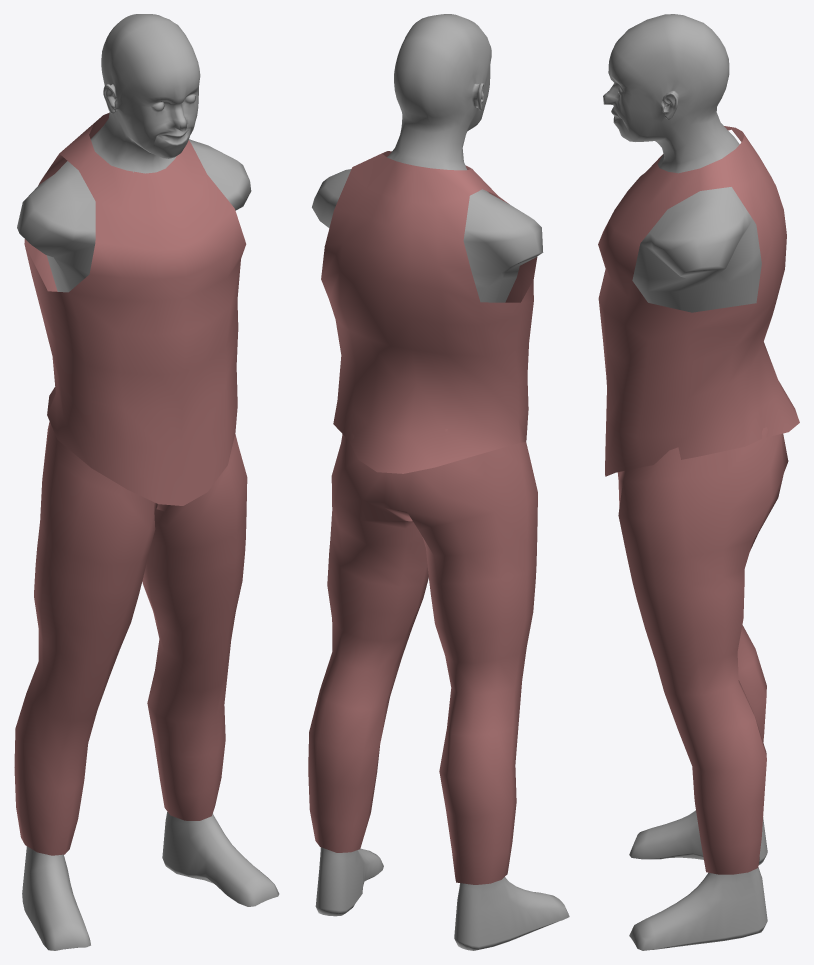
Rendered from MaleModel.fbx.
3 renders of one model, left to right at view 1: azimuth 30°, elevation 25°; view 2: azimuth 150°, elevation 25°; view 3: azimuth 270°, elevation 25°, orthographic.
Parts seen in each view (by area): view 1: Pant, Vest, Body; view 2: Pant, Vest, Body; view 3: Pant, Vest, Body.
Part boxes in pixels (x1,y1,x2,y2): Pant: (14, 421, 247, 855); Vest: (24, 112, 246, 505); Body: (17, 14, 279, 950); Pant: (308, 429, 537, 884); Vest: (321, 151, 537, 473); Body: (312, 14, 569, 950); Pant: (617, 427, 788, 874); Vest: (598, 126, 799, 476); Body: (603, 14, 767, 950).
Bounding box in the file's own units: 2.36 × 8.74 × 1.82.
